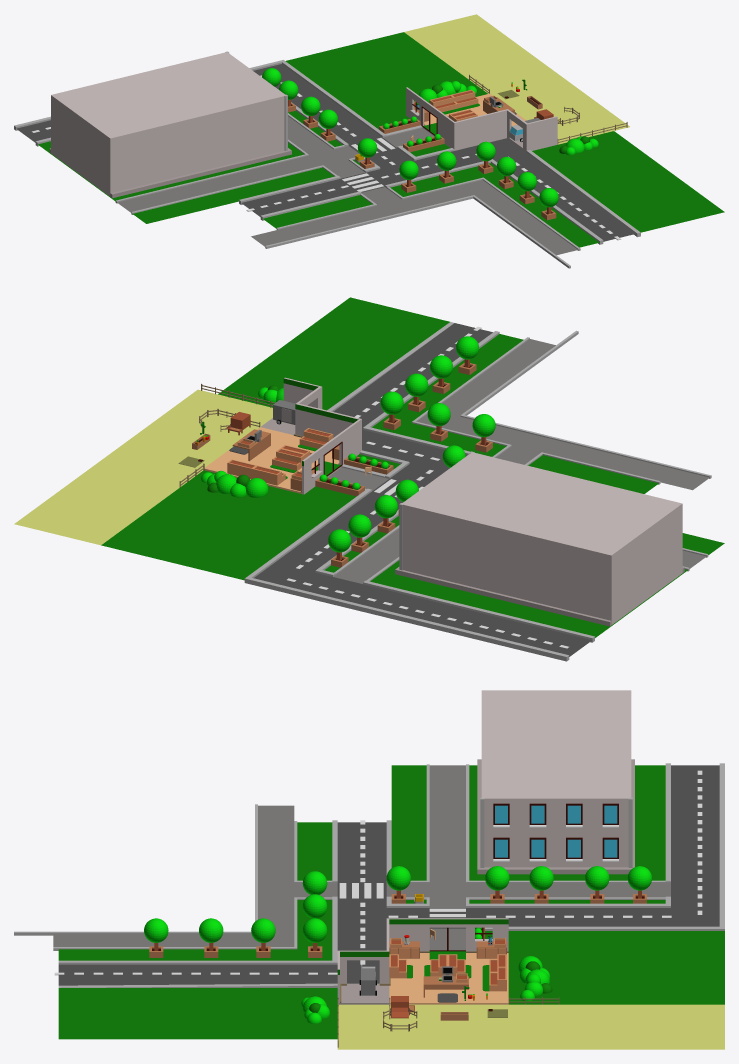
File: Farm.fbx
The picture shows the model from 3 angles, top to bottom: view 1: azimuth 30°, elevation 25°; view 2: azimuth 150°, elevation 25°; view 3: azimuth 270°, elevation 25°; orthographic projection. The views are drawn at different scales.
Visible parts, largest first — view 1: Cube.078, Plane.019, Plane.013, Plane, Plane.011, Cube.019, Plane.016, Plane.003, Plane.010, Plane.002, Plane.014, Plane.017 (+15 smaller); view 2: Cube.078, Plane.019, Plane.013, Plane.002, Plane.011, Plane, Plane.010, Plane.016, Plane.006, Cube.019, Plane.017, Plane.012 (+12 smaller); view 3: Cube.078, Plane.019, Plane.013, Plane, Plane.002, Plane.011, Plane.003, Plane.010, Plane.006, Plane.016, Plane.014, Plane.017 (+20 smaller).
Boxes of the visible parts, <box> form: Cube.078: <box>51,52,286,196</box>; Plane.019: <box>404,14,629,144</box>; Plane.013: <box>532,131,724,232</box>; Plane: <box>241,138,636,241</box>; Plane.011: <box>320,32,487,115</box>; Cube.019: <box>406,87,557,151</box>; Plane.016: <box>251,180,496,246</box>; Plane.003: <box>117,146,359,212</box>; Plane.010: <box>285,52,409,129</box>; Plane.002: <box>16,64,413,168</box>; Plane.014: <box>133,167,334,223</box>; Plane.017: <box>390,163,599,247</box>; Cube.078: <box>401,452,682,624</box>; Plane.019: <box>14,389,272,545</box>; Plane.013: <box>218,297,449,410</box>; Plane.002: <box>254,464,591,656</box>; Plane.011: <box>101,470,303,569</box>; Plane: <box>333,323,492,472</box>; Plane.010: <box>201,486,356,580</box>; Plane.016: <box>417,414,709,490</box>; Plane.006: <box>370,560,687,637</box>; Cube.019: <box>283,377,361,494</box>; Plane.017: <box>372,334,523,456</box>; Plane.012: <box>442,339,555,416</box>; Cube.078: <box>481,690,631,867</box>; Plane.019: <box>337,1004,724,1049</box>; Plane.013: <box>58,988,337,1039</box>; Plane: <box>58,822,386,985</box>; Plane.002: <box>386,765,719,928</box>; Plane.011: <box>508,953,724,1004</box>; Plane.003: <box>429,765,465,907</box>; Plane.010: <box>485,931,724,953</box>; Plane.006: <box>469,765,665,880</box>; Plane.016: <box>258,805,294,946</box>; Plane.014: <box>391,765,426,880</box>; Plane.017: <box>58,900,332,960</box>.
Bounding box in the file's own units: 6616 × 1002 × 6993.
